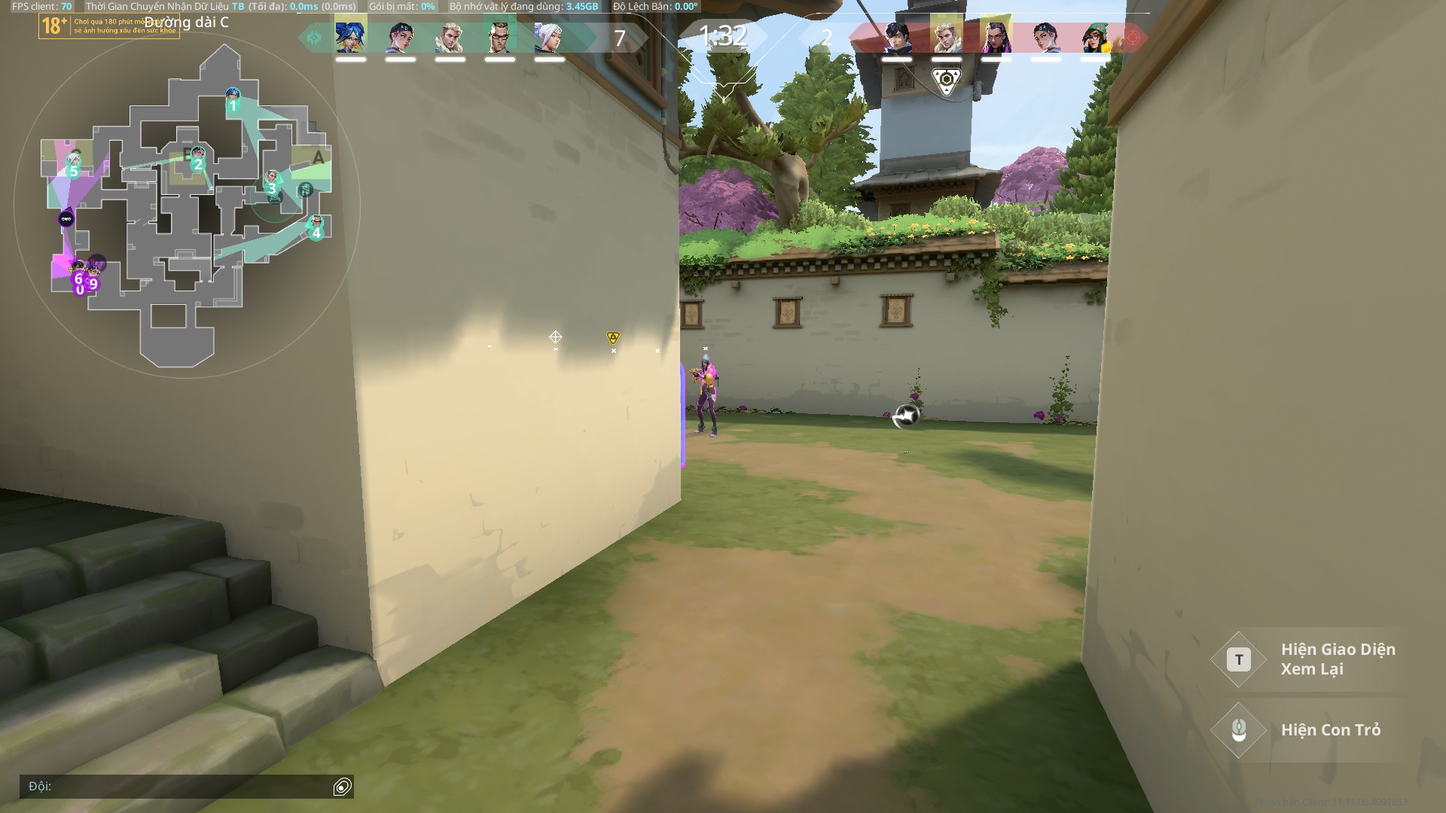body: (697, 364, 718, 385)
head: (700, 355, 710, 365)
